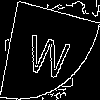W: (25, 24, 73, 81)
